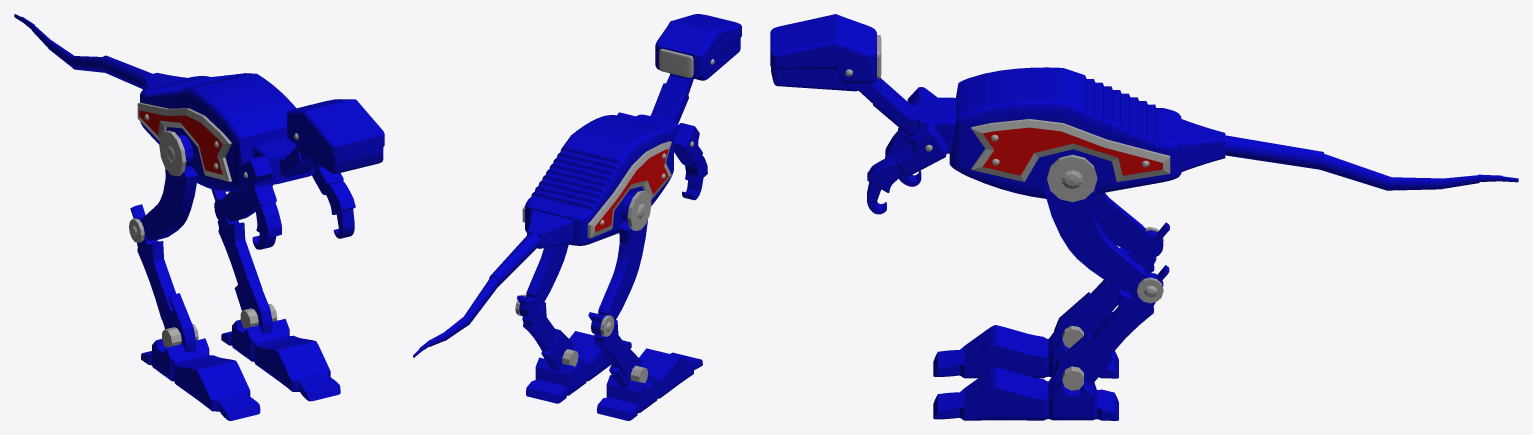
The model's file is dinomech.obj.
3 views of the same model, side by side, from view 1: azimuth 30°, elevation 25°; view 2: azimuth 150°, elevation 25°; view 3: azimuth 270°, elevation 25° (orthographic). The views are drawn at different scales.
Visible parts, largest first — view 1: body_main, DINOMECH_DINOMECH_BLUE_METAL, FOOT01, FOOT, leg_mid, DINOMECH_DINOMECH_Explorer_Default, leg_mid01, DINOMECH_DINOMECH_FACEMAP_METL_BMP, upr_arm, DINOMECH_DINOMECH_BRUSHED_METAL, leg_btm01, leg_btm (+8 smaller); view 2: body_main, DINOMECH_DINOMECH_BLUE_METAL, FOOT01, FOOT, DINOMECH_DINOMECH_Explorer_Default, leg_upr01, leg_mid, DINOMECH_DINOMECH_FACEMAP_METL_BMP, leg_mid01, neck_lwr, upr_arm, DINOMECH_DINOMECH_BRASS (+5 smaller); view 3: body_main, DINOMECH_DINOMECH_BLUE_METAL, FOOT, FOOT01, leg_upr01, DINOMECH_DINOMECH_Explorer_Default, DINOMECH_DINOMECH_FACEMAP_METL_BMP, leg_mid01, upr_arm01, leg_mid, lg_hubs03, leg_btm (+5 smaller).
Part boxes in pixels (x1,y1,x2,y2): body_main: [140, 72, 314, 191]; DINOMECH_DINOMECH_BLUE_METAL: [100, 55, 384, 240]; FOOT01: [141, 338, 260, 420]; FOOT: [221, 318, 340, 401]; leg_mid: [130, 204, 176, 319]; DINOMECH_DINOMECH_Explorer_Default: [137, 102, 231, 181]; leg_mid01: [211, 189, 262, 288]; DINOMECH_DINOMECH_FACEMAP_METL_BMP: [139, 110, 222, 174]; upr_arm: [239, 156, 276, 211]; DINOMECH_DINOMECH_BRUSHED_METAL: [159, 130, 277, 329]; leg_btm01: [234, 275, 272, 333]; leg_btm: [162, 293, 195, 352]; body_main: [525, 114, 678, 248]; DINOMECH_DINOMECH_BLUE_METAL: [489, 14, 741, 332]; FOOT01: [597, 348, 702, 420]; FOOT: [526, 331, 631, 403]; DINOMECH_DINOMECH_Explorer_Default: [522, 141, 671, 238]; leg_upr01: [519, 244, 568, 315]; leg_mid: [588, 312, 633, 375]; DINOMECH_DINOMECH_FACEMAP_METL_BMP: [595, 149, 668, 232]; leg_mid01: [517, 295, 557, 351]; neck_lwr: [650, 83, 688, 123]; upr_arm: [673, 123, 702, 167]; DINOMECH_DINOMECH_BRASS: [606, 48, 714, 331]; body_main: [917, 67, 1225, 198]; DINOMECH_DINOMECH_BLUE_METAL: [770, 14, 1323, 252]; FOOT: [933, 367, 1118, 420]; FOOT01: [933, 325, 1118, 378]; leg_upr01: [1045, 187, 1163, 293]; DINOMECH_DINOMECH_Explorer_Default: [971, 119, 1170, 181]; DINOMECH_DINOMECH_FACEMAP_METL_BMP: [982, 127, 1162, 175]; leg_mid01: [1081, 265, 1169, 368]; upr_arm01: [894, 122, 947, 177]; leg_mid: [1091, 222, 1169, 313]; lg_hubs03: [1047, 154, 1097, 202]; leg_btm: [1053, 292, 1112, 345].
Size of the model in its own units: 7.68 by 20.67 by 38.58.
